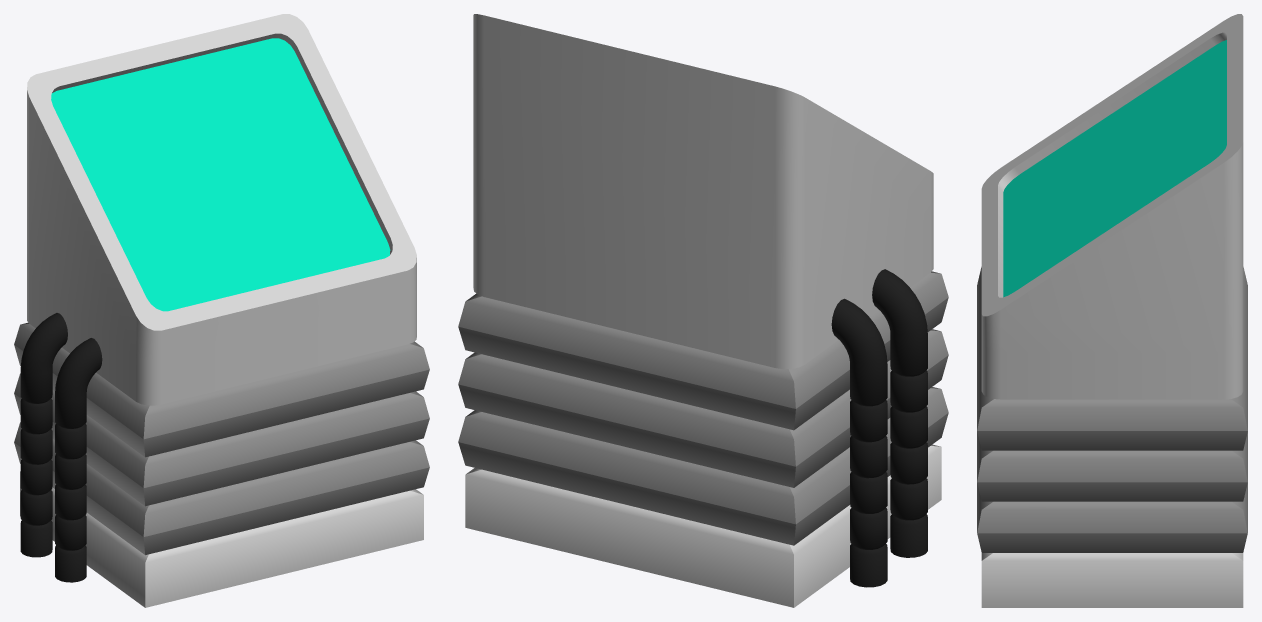
The model's file is Panel.fbx.
3 views of the same model, side by side, from view 1: azimuth 30°, elevation 25°; view 2: azimuth 150°, elevation 25°; view 3: azimuth 270°, elevation 25° (orthographic). The views are drawn at different scales.
Parts seen in each view (by area): view 1: Panel; view 2: Panel; view 3: Panel.
Boxes of the visible parts, x1,y1,x2,y2 form: Panel: (14, 14, 429, 607); Panel: (458, 14, 948, 607); Panel: (977, 14, 1247, 607).
Size of the model in its own units: 110 by 145 by 77.5.
